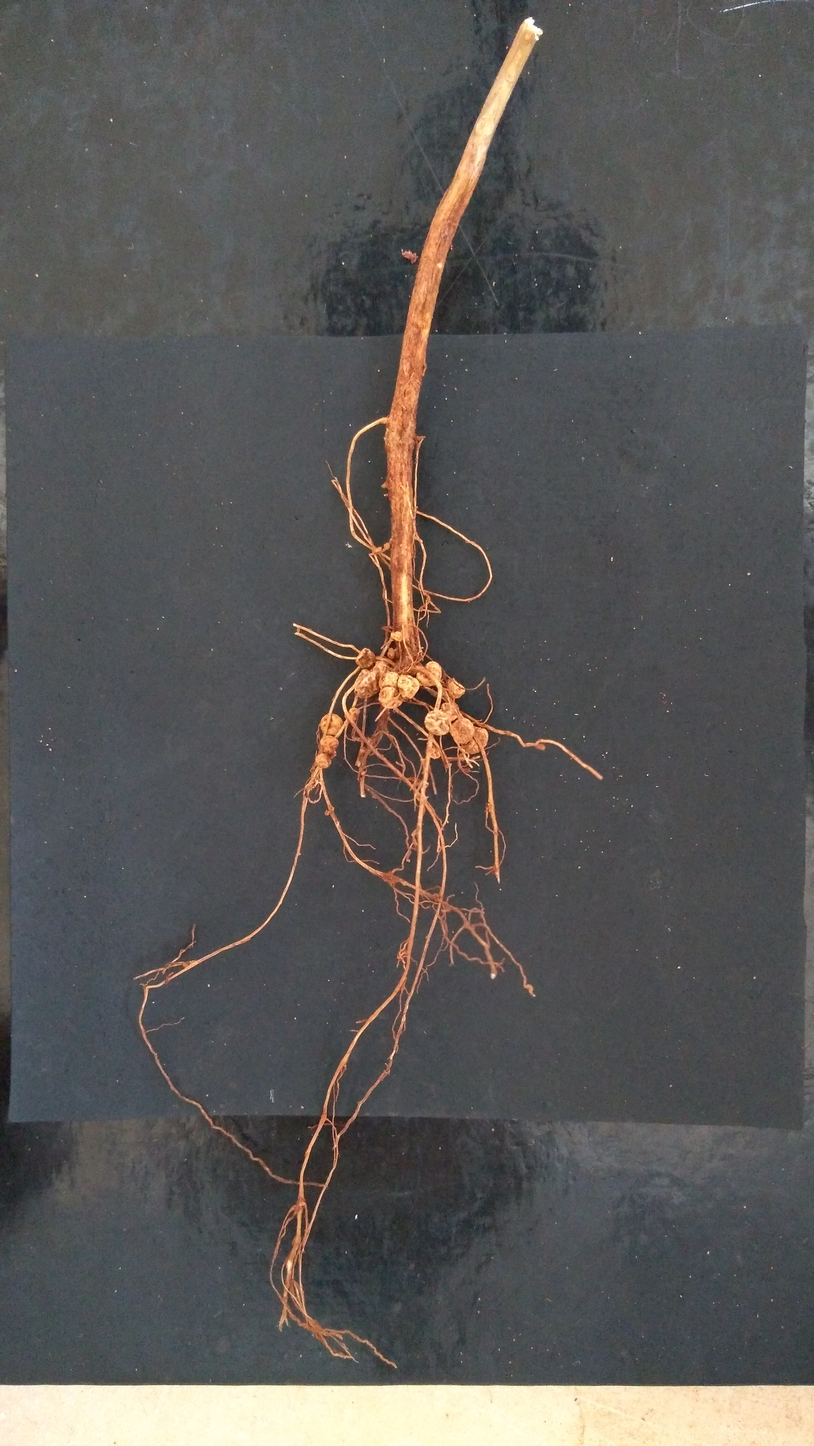nodule: (379, 671, 402, 709), (461, 725, 488, 754), (354, 669, 380, 699), (416, 661, 442, 687), (449, 718, 475, 744), (424, 710, 450, 735), (397, 675, 419, 699), (372, 656, 391, 683), (321, 713, 343, 735), (355, 648, 376, 669), (439, 702, 460, 722), (446, 677, 465, 698), (319, 735, 339, 754), (316, 753, 331, 768), (426, 745, 441, 759), (387, 647, 402, 659), (348, 708, 360, 721), (390, 631, 403, 642), (535, 744, 545, 751), (372, 547, 382, 553), (384, 543, 390, 549), (324, 809, 330, 815)
